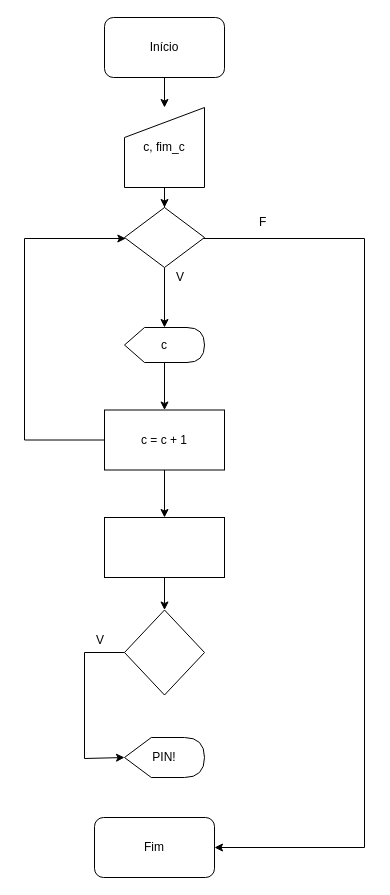
This 390x895 diagram has some shape labels left out. The shapes that lost their labels are listed below. From the top down, each one's box as (x1, y1, x2, y2) in pixels, then its label:
(124, 206, 204, 268): c <= fim_c
(104, 516, 224, 578): resto = c % 4
(124, 609, 204, 695): resto == 0
